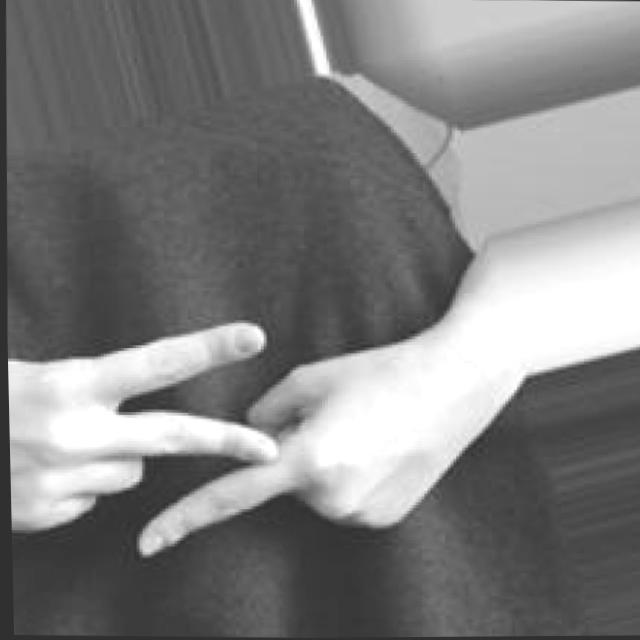Z: (7, 303, 476, 564)
